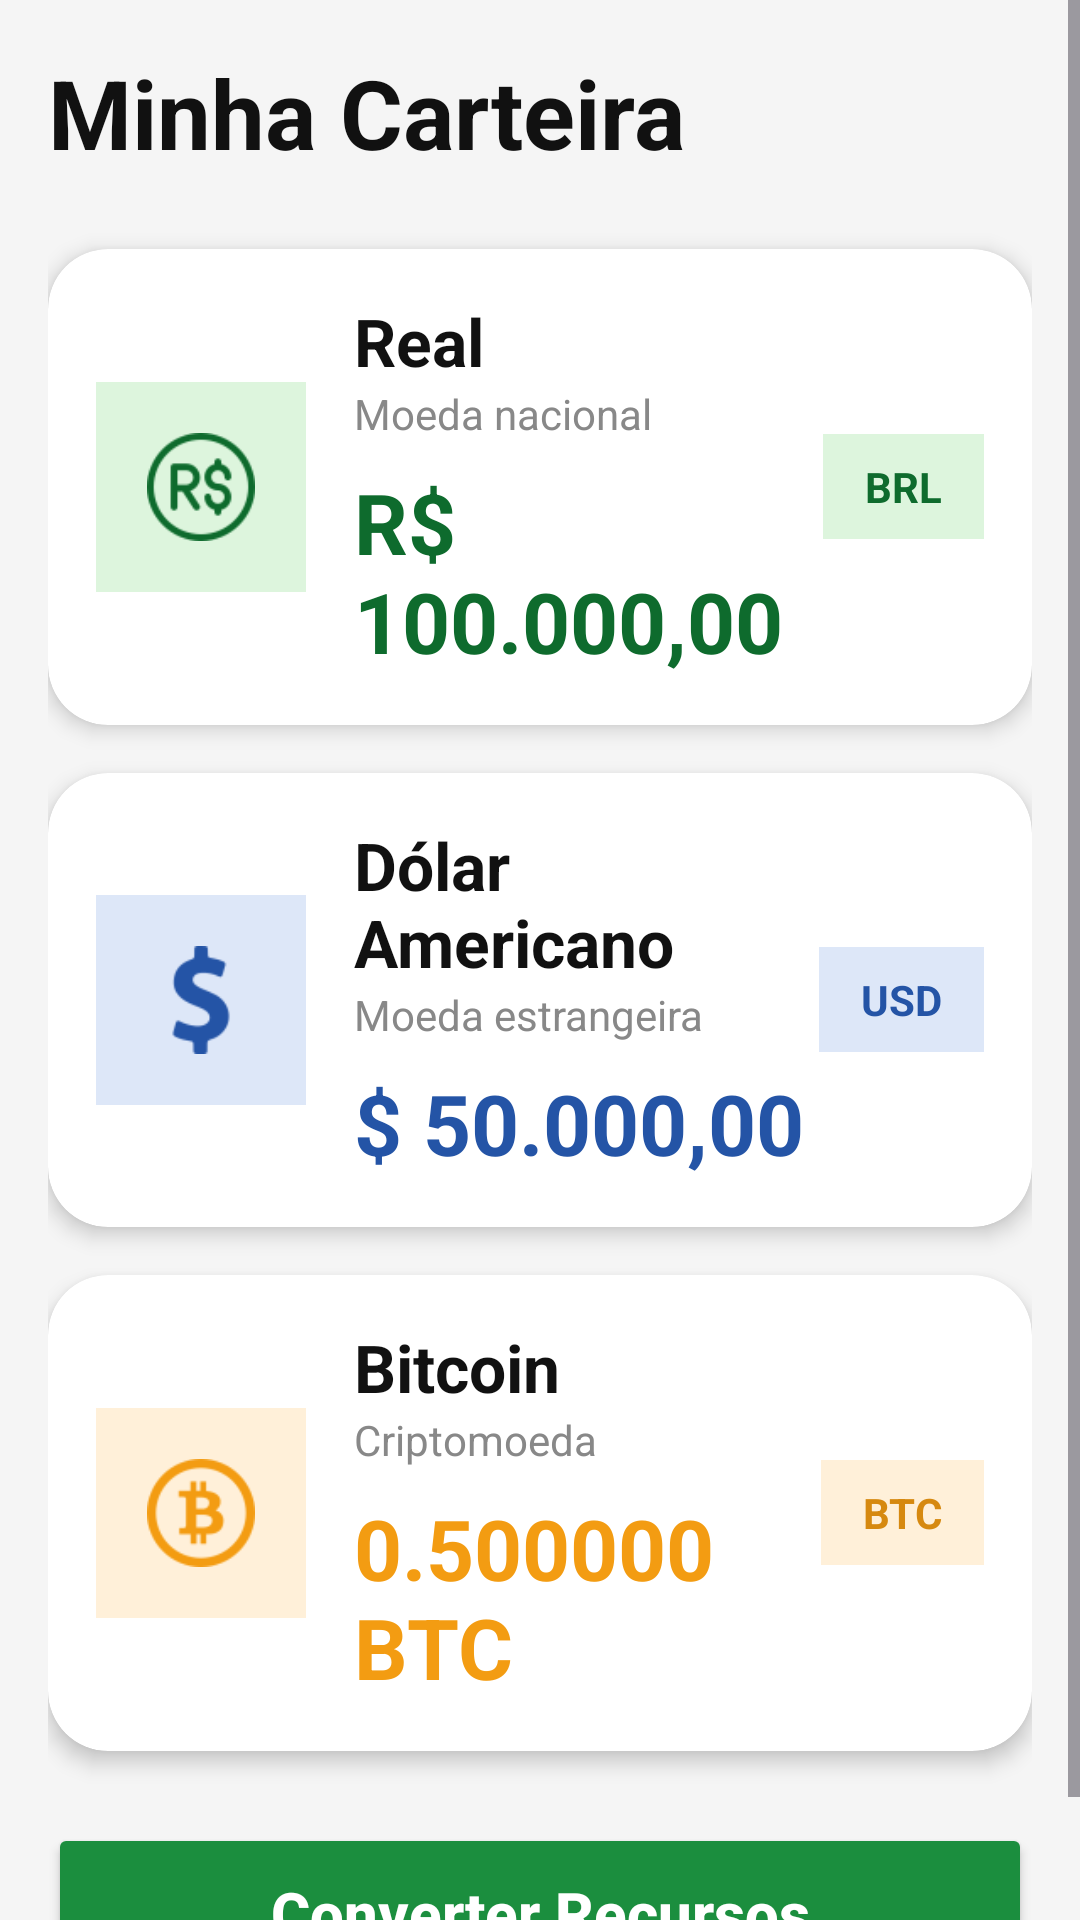

Named icons in this screenshot (1080 × 1920) and their bounding boxes, BBox(x1, y1, x2, y2):
dolar: BBox(172, 946, 230, 1054)
